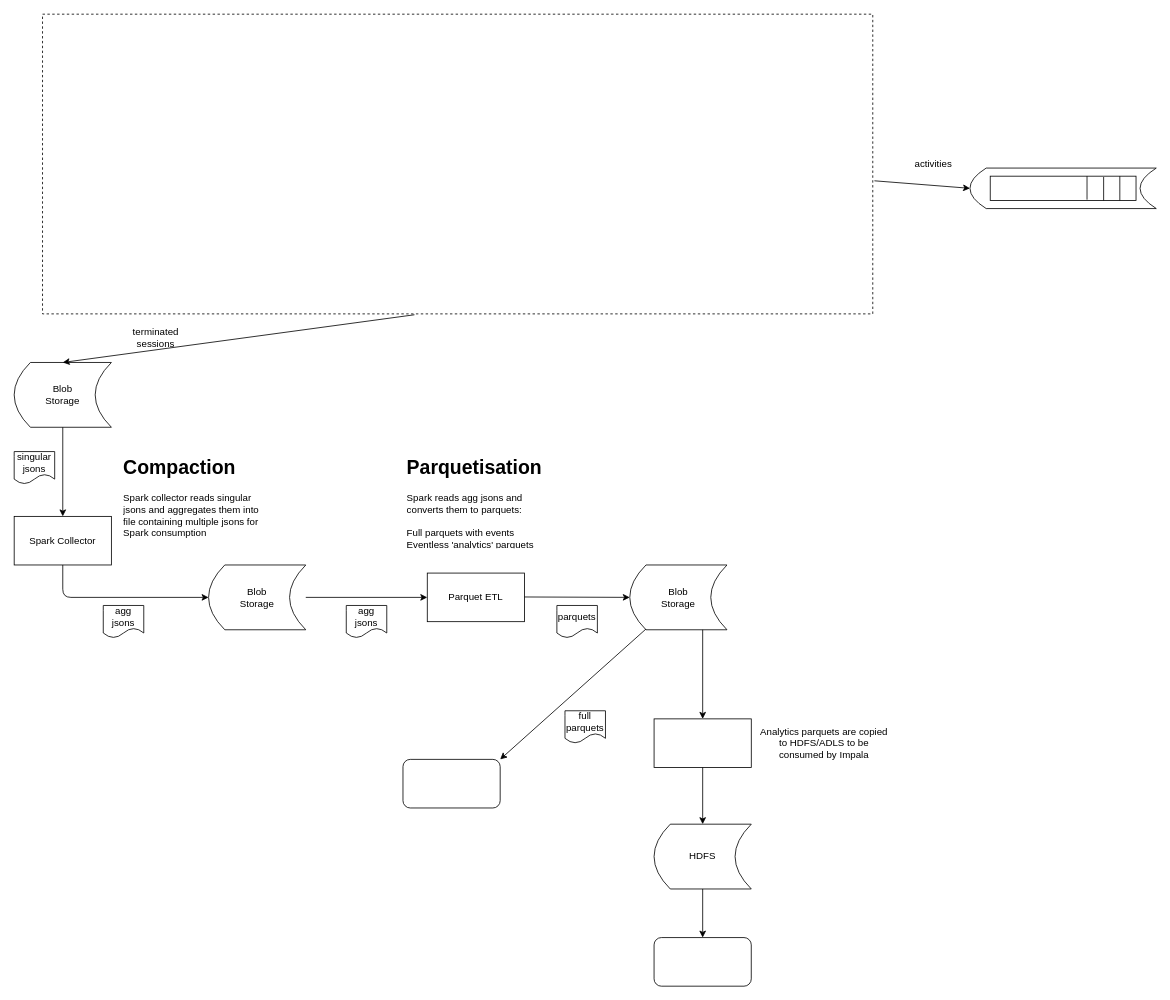
Image size: 1170x1000. Some labels were removed from this diagram. The shapes that lost their labels are listed below. From the top down, each one's centre as x and y in pixels, then its label:
pixel 457 163: server
pixel 1062 187: kafka
pixel 702 742: Analytics ETL
pixel 451 783: Databricks
pixel 702 961: Impala
